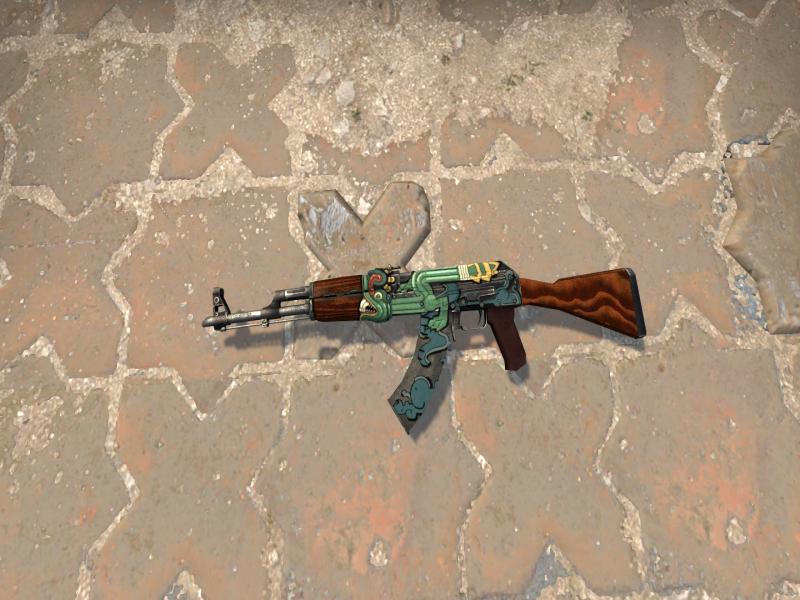AK47: (202, 261, 647, 432)
